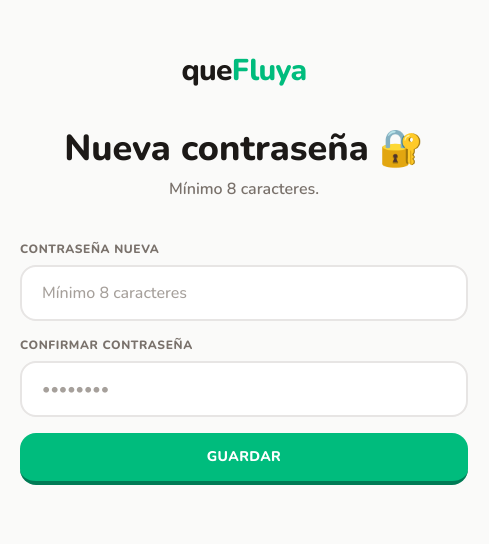
<ResetPasswordPage /> › shows a friendly error when Supabase rejects the update
Type "longenough1" into the password field labelled "Contraseña nueva".
click(244, 293); type("longenough1")  # box x1=20 y1=265 x2=468 y2=321
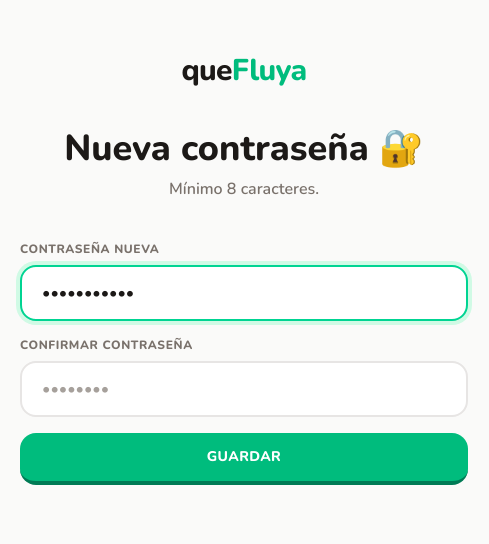
Type "longenough1" into the password field labelled "Confirmar contraseña".
click(244, 389); type("longenough1")  # box x1=20 y1=361 x2=468 y2=417
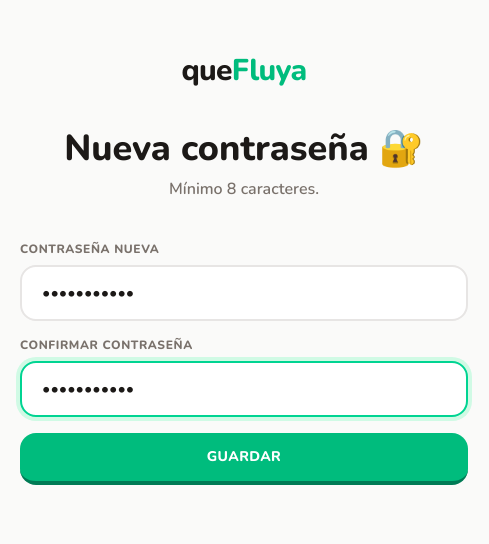
Click the button "Guardar".
click(244, 459)  # box x1=20 y1=433 x2=468 y2=485
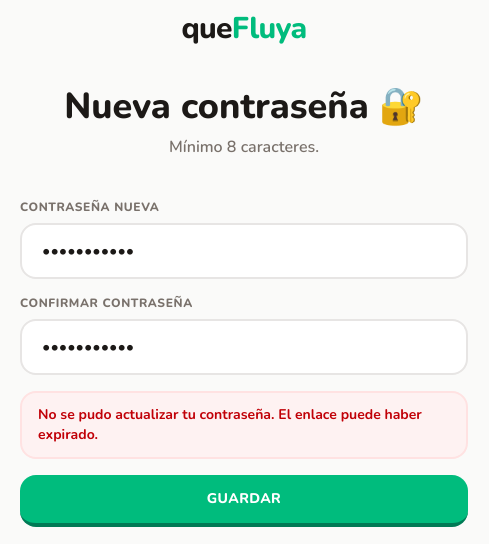
Check: the text "No se pudo actualizar" is shown, box x1=38 y1=405 x2=422 y2=444
